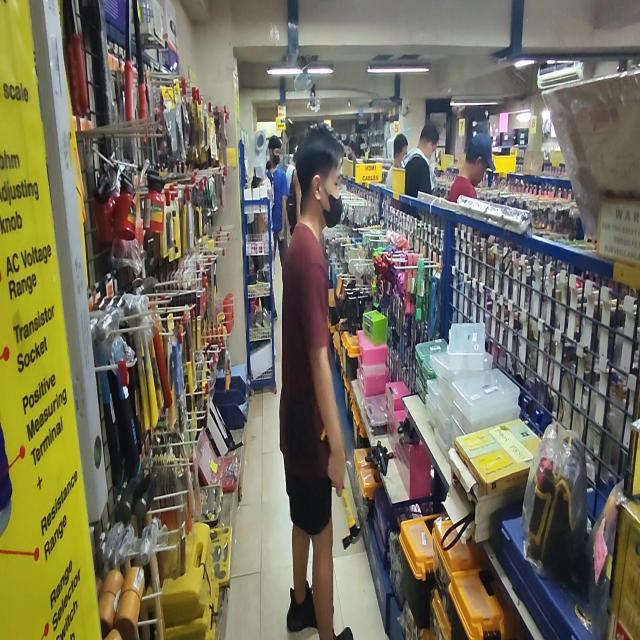hammer: (320, 427, 364, 550)
